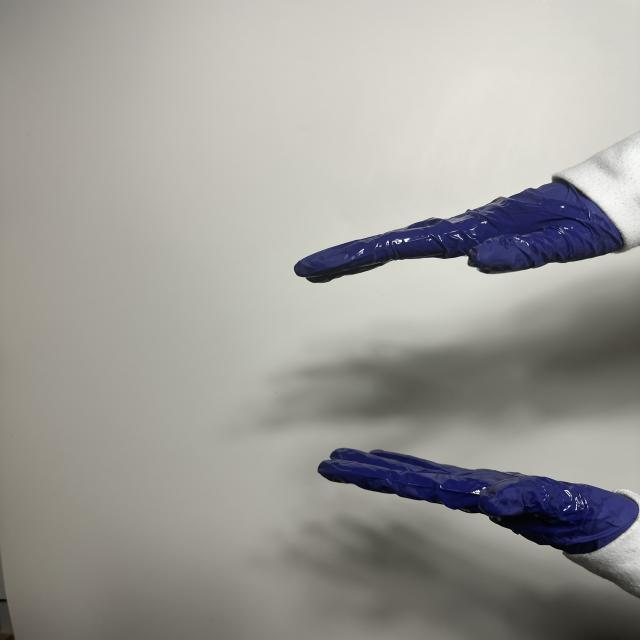gloves_contaminated: (318, 448, 638, 554), (294, 182, 623, 282)
